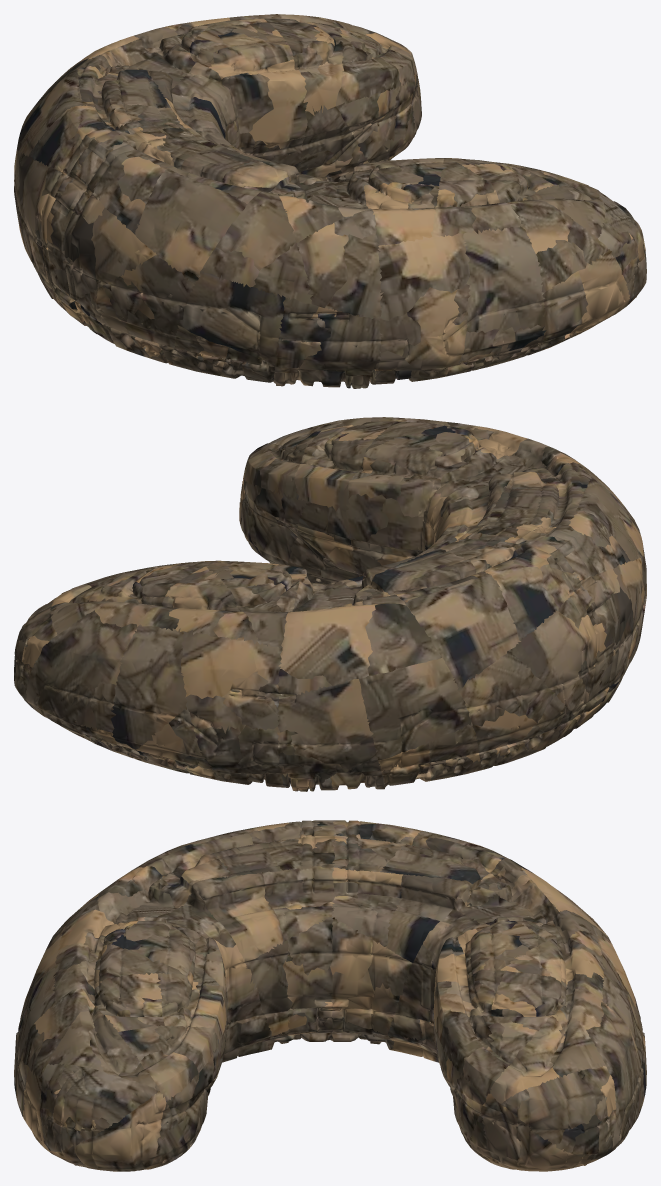
File: arc-veil-lean.glb
The picture shows the model from 3 angles, top to bottom: view 1: azimuth 30°, elevation 25°; view 2: azimuth 150°, elevation 25°; view 3: azimuth 270°, elevation 25°; orthographic projection.
Parts seen in each view (by area): view 1: chassis; view 2: chassis; view 3: chassis.
Part boxes in pixels (x1=…): chassis: x1=14, y1=14, x2=646, y2=388; chassis: x1=14, y1=417, x2=646, y2=791; chassis: x1=14, y1=820, x2=646, y2=1171.
Bounding box in the file's own units: 0.8342 × 0.3158 × 0.9898.
1 material, 1 textured.
